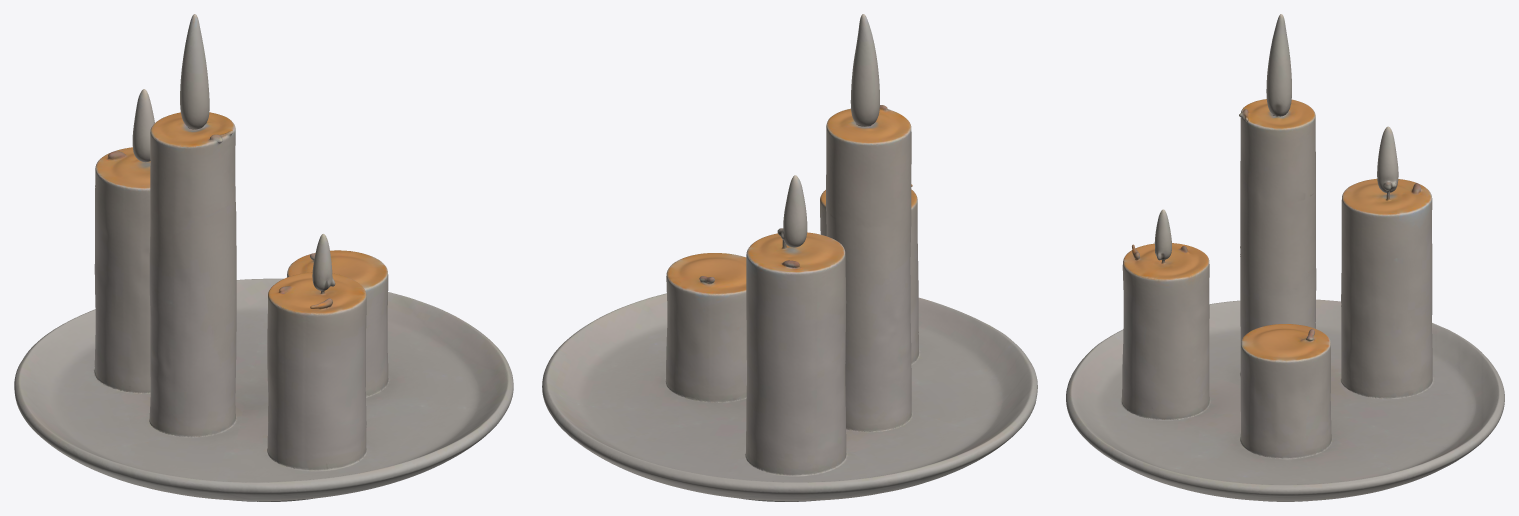
Rendered from detailed_realistic_model_floatingcandles_06.glb.
3 renders of one model, left to right at view 1: azimuth 30°, elevation 25°; view 2: azimuth 150°, elevation 25°; view 3: azimuth 270°, elevation 25°, orthographic. The views are drawn at different scales.
Parts seen in each view (by area): view 1: tripo_node_ba1183e2-20bb-44e2-a963-a57e94adf058; view 2: tripo_node_ba1183e2-20bb-44e2-a963-a57e94adf058; view 3: tripo_node_ba1183e2-20bb-44e2-a963-a57e94adf058.
Boxes of the visible parts, x1,y1,x2,y2 form: tripo_node_ba1183e2-20bb-44e2-a963-a57e94adf058: [14, 14, 513, 501]; tripo_node_ba1183e2-20bb-44e2-a963-a57e94adf058: [542, 14, 1037, 501]; tripo_node_ba1183e2-20bb-44e2-a963-a57e94adf058: [1066, 14, 1504, 501].
Size of the model in its own units: 1 by 0.9998 by 0.9775.
1 material, 1 textured.
